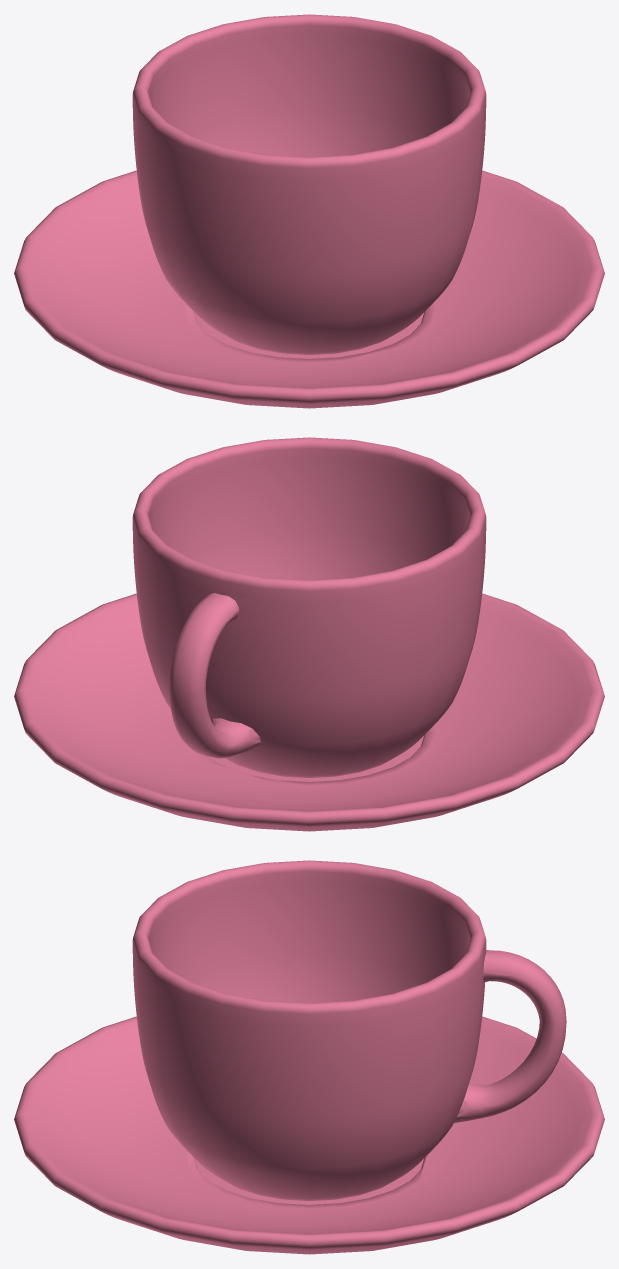
3 renders of one model, top to bottom at view 1: azimuth 30°, elevation 25°; view 2: azimuth 150°, elevation 25°; view 3: azimuth 270°, elevation 25°, orthographic.
Visible parts, largest first — view 1: mesh5_mesh5-geometry, mesh1_mesh1-geometry; view 2: mesh5_mesh5-geometry, mesh1_mesh1-geometry; view 3: mesh5_mesh5-geometry, mesh1_mesh1-geometry.
Part boxes in pixels (box(x1,y1,x2,y2)): mesh5_mesh5-geometry: box(132, 14, 486, 354); mesh1_mesh1-geometry: box(14, 170, 604, 408); mesh5_mesh5-geometry: box(132, 437, 486, 777); mesh1_mesh1-geometry: box(14, 593, 604, 831); mesh5_mesh5-geometry: box(132, 860, 566, 1200); mesh1_mesh1-geometry: box(14, 1016, 604, 1254).
Size of the model in its own units: 0.6713 by 0.3142 by 0.6713.
